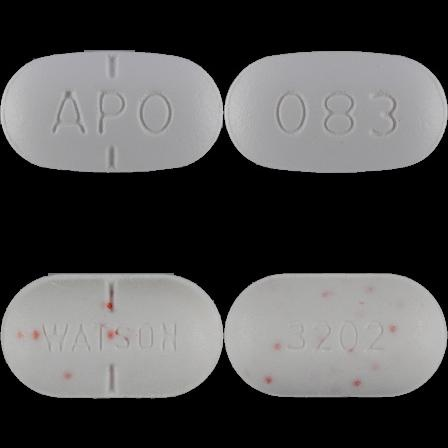12634-248: (0, 0, 224, 224)
